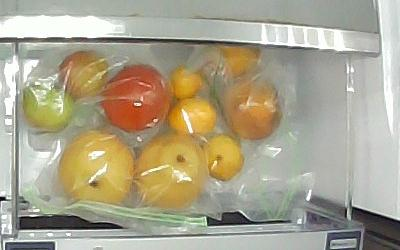peach_vinyl: (222, 80, 283, 139), (218, 45, 261, 79)
pear_vinyl: (59, 131, 135, 204), (136, 135, 206, 210)
tangerine_vinyl: (170, 98, 217, 138), (205, 135, 244, 181), (169, 66, 202, 97)
tomato_vinyl: (103, 64, 171, 133), (59, 51, 109, 103), (24, 79, 74, 129)
